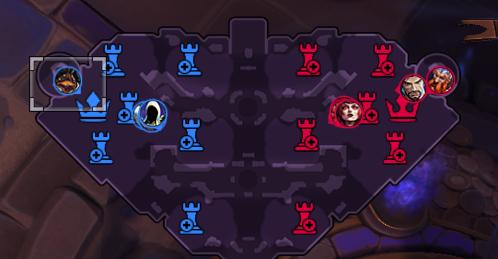blue nexus: (75, 89, 108, 122)
blue player: (133, 98, 167, 132), (53, 66, 81, 94)
blue tower: (176, 41, 202, 76), (88, 130, 114, 164), (178, 200, 204, 234), (178, 117, 204, 151), (100, 42, 125, 77), (115, 90, 139, 124)
red player: (328, 95, 362, 128), (397, 73, 426, 103), (425, 66, 455, 95)
red tower: (295, 41, 321, 76), (381, 130, 407, 164), (293, 117, 319, 151), (370, 42, 395, 77), (291, 201, 317, 234), (356, 90, 379, 124)
